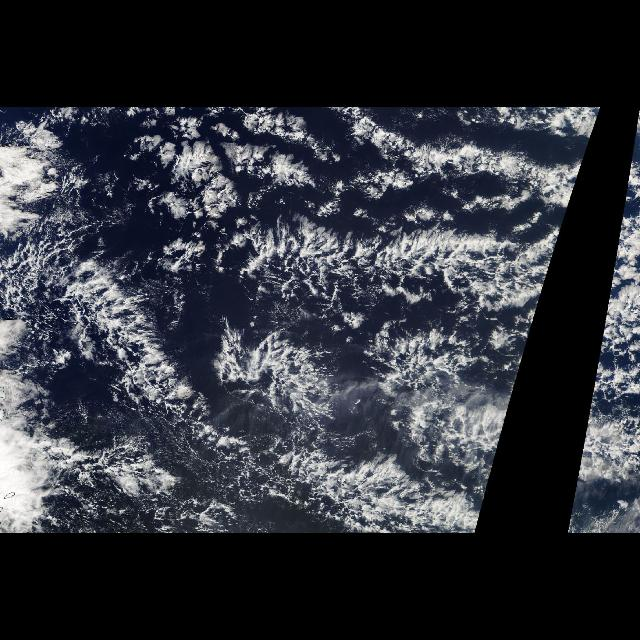Fish: (21, 209, 569, 533), (566, 224, 640, 534)
Flower: (117, 108, 405, 225)
Gravel: (5, 215, 140, 372)
